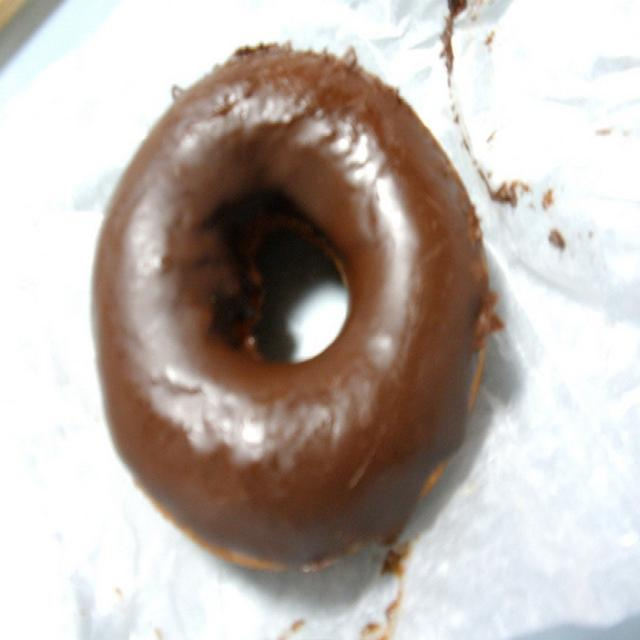炸货点心: (70, 45, 519, 568)
